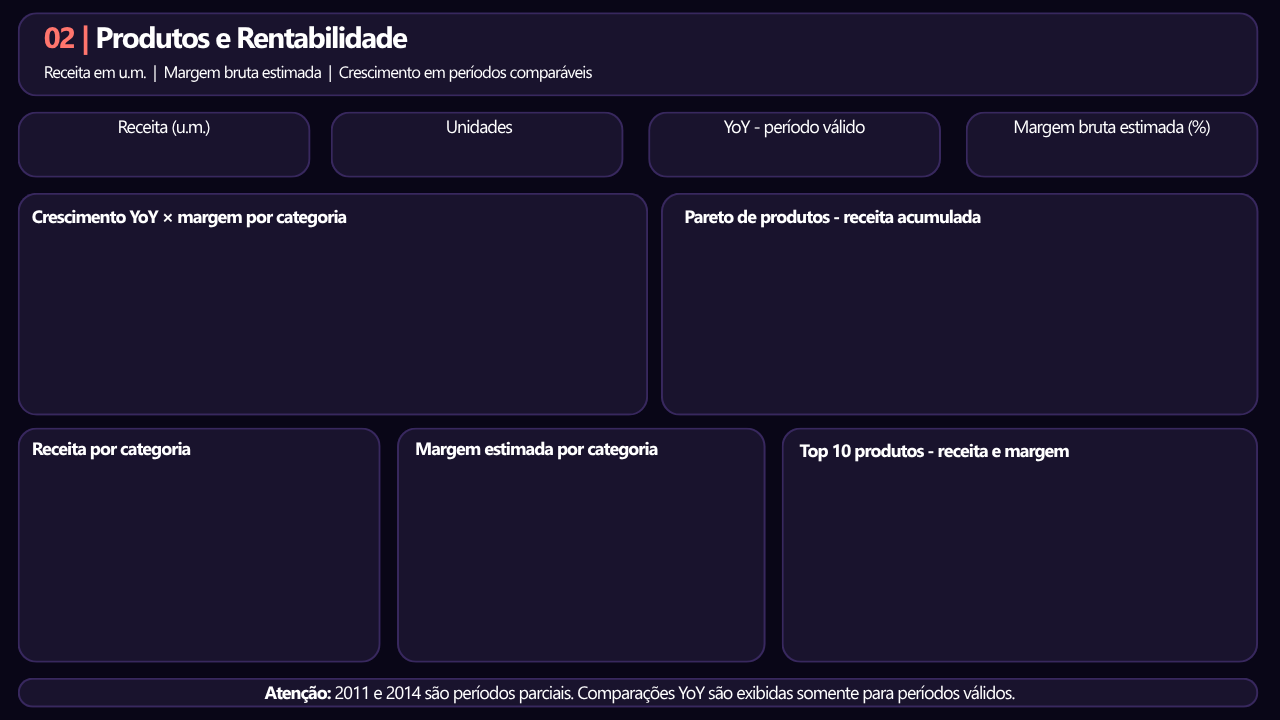

The dashboard page shown, as its layout file describes it:
{"tool":"powerbi","page":{"name":"02 | Produtos e Rentabilidade","canvas":[1280,720],"ordinal":1},"visuals":[{"type":"slicer","fields":{"Values":["DimCalendario.Ano"]},"box":[721.4,20,118,68.6],"z":0},{"type":"slicer","fields":{"Values":["DimProduto.Categoria"]},"box":[845.6,20,118,68],"z":1000},{"type":"slicer","fields":{"Values":["DimProduto.Subcategoria"]},"box":[969.8,20,132,68.8],"z":2000},{"type":"slicer","fields":{"Values":["DimTerritorio.Territorio"]},"box":[1108,20,118,68],"z":3000},{"type":"card","title":"Receita (u.m.)","fields":{"Values":["Medidas.Receita de Produtos"]},"box":[17.1,131.4,292.9,41.4],"z":4000},{"type":"card","title":"Unidades","fields":{"Values":["Medidas.Unidades Vendidas"]},"box":[332.9,131.4,291.4,41.4],"z":5000},{"type":"card","title":"YoY: ano/mês válido","fields":{"Values":["Medidas.Crescimento YoY %"]},"box":[650,131.4,288.6,41.4],"z":6000},{"type":"card","title":"Margem estimada %","fields":{"Values":["Medidas.Margem Bruta Estimada %"]},"box":[964.3,131.4,288.6,41.4],"z":7000},{"type":"barChart","title":"Receita por categoria","fields":{"Category":["DimProduto.Categoria"],"Y":["Medidas.Receita de Produtos"]},"box":[27.5,465,343.3,185],"z":9000},{"type":"barChart","title":"Margem estimada por categoria","fields":{"Category":["DimProduto.Categoria"],"Y":["Medidas.Margem Bruta Estimada %"]},"box":[403.3,481.3,355.3,168.7],"z":10000},{"type":"lineClusteredColumnComboChart","title":"Pareto de produtos — ordem de receita","fields":{"Category":["DimProduto.NomeProduto"],"Y":["Medidas.Receita de Produtos"],"Y2":["Medidas.Participação Acumulada Produtos %"]},"box":[669.1,215.5,583.6,195.5],"z":11000},{"type":"tableEx","title":"Produtos — receita e margem","fields":{"Values":["DimProduto.NomeProduto","Medidas.Receita de Produtos","Medidas.Margem Bruta Estimada %"]},"box":[793.3,464.7,458.7,185.3],"z":12000},{"type":"scatterChart","title":"Categorias: crescimento YoY × margem","fields":{"X":["Medidas.Crescimento YoY %"],"Y":["Medidas.Margem Bruta Estimada %"],"Size":["Medidas.Receita de Produtos"],"Series":["DimProduto.Categoria"]},"box":[27.5,225,612.5,177.5],"z":13000}]}

Visuals, with their boxes in screenshot pixels (x1, y1, x2, y2), scaled from the page's 1280x720 canvas onto the 1280x720 screenshot:
slicer - DimCalendario.Ano: 721 20 839 89
slicer - DimProduto.Categoria: 846 20 964 88
slicer - DimProduto.Subcategoria: 970 20 1102 89
slicer - DimTerritorio.Territorio: 1108 20 1226 88
"Receita (u.m.)" card: 17 131 310 173
"Unidades" card: 333 131 624 173
"YoY: ano/mês válido" card: 650 131 939 173
"Margem estimada %" card: 964 131 1253 173
"Receita por categoria" barChart: 28 465 371 650
"Margem estimada por categoria" barChart: 403 481 759 650
"Pareto de produtos — ordem de receita" lineClusteredColumnComboChart: 669 216 1253 411
"Produtos — receita e margem" tableEx: 793 465 1252 650
"Categorias: crescimento YoY × margem" scatterChart: 28 225 640 402
